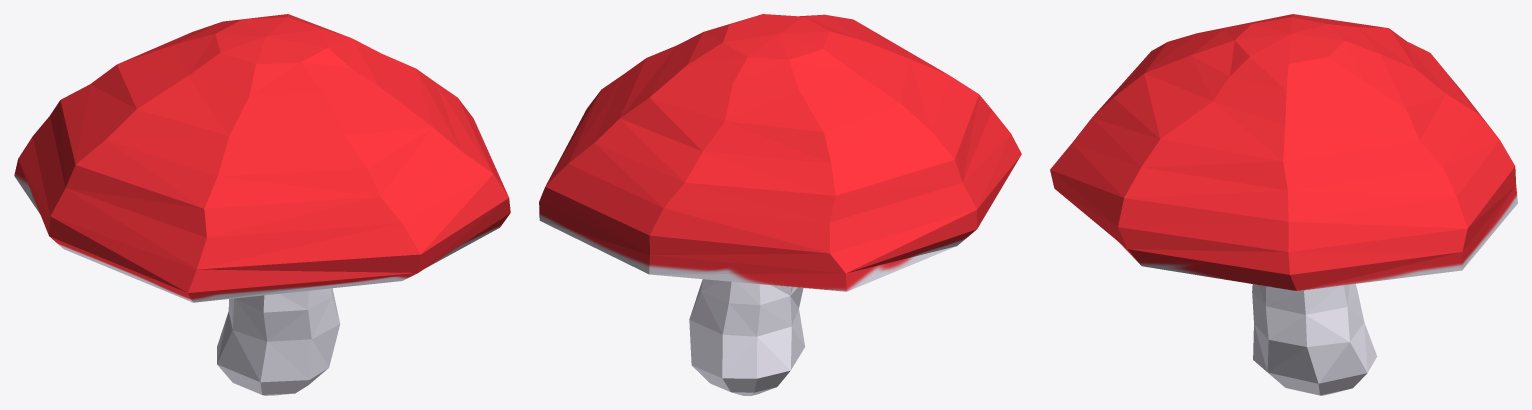
The model's file is amanita.obj.
The picture shows the model from 3 angles, left to right: view 1: azimuth 30°, elevation 25°; view 2: azimuth 150°, elevation 25°; view 3: azimuth 270°, elevation 25°; orthographic projection. The views are drawn at different scales.
Visible parts, largest first — view 1: Cube; view 2: Cube; view 3: Cube.
Boxes of the visible parts, box(x1,y1,x2,y2) form: Cube: box(14, 14, 510, 395); Cube: box(539, 14, 1021, 395); Cube: box(1050, 14, 1517, 395).
Size of the model in its own units: 4.85 by 4.03 by 4.87.
1 material, 1 textured.
